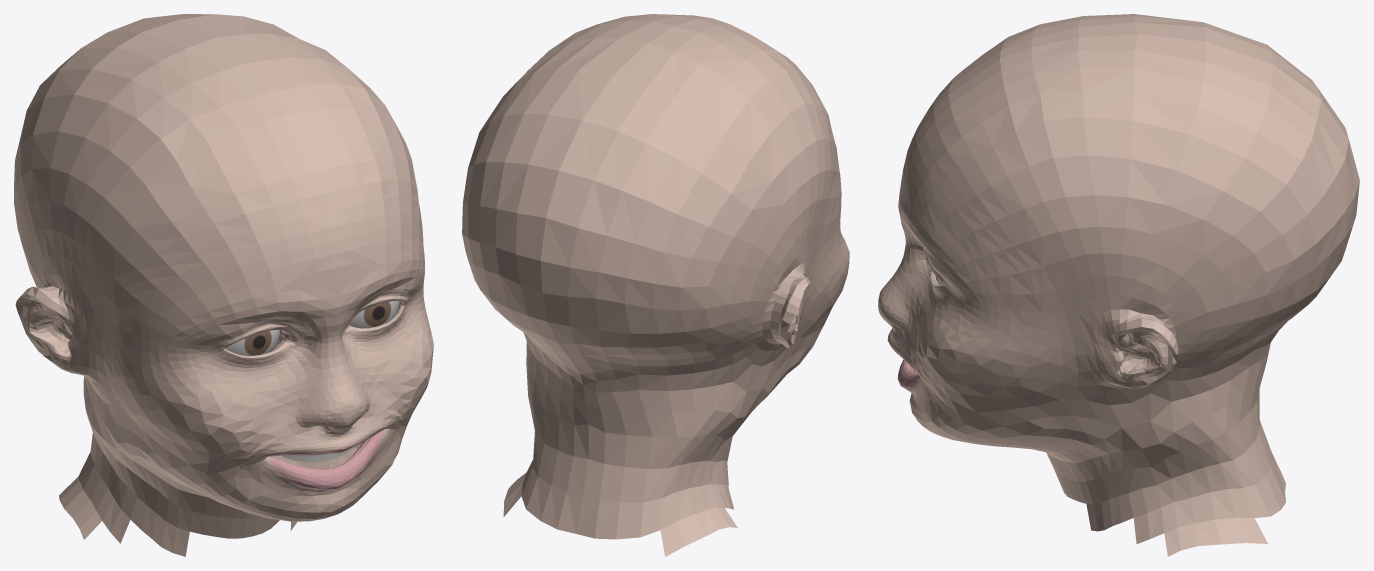
File: karma_face_MH_smile_AI.glb
3 views of the same model, side by side, from view 1: azimuth 30°, elevation 25°; view 2: azimuth 150°, elevation 25°; view 3: azimuth 270°, elevation 25° (orthographic). The views are drawn at different scales.
Visible parts, largest first — view 1: head; view 2: head; view 3: head.
Part boxes in pixels (<box>): head: <box>14,14,433,556</box>; head: <box>462,14,849,556</box>; head: <box>878,14,1359,556</box>.
Bounding box in the file's own units: 3.03 × 3.91 × 3.62.
